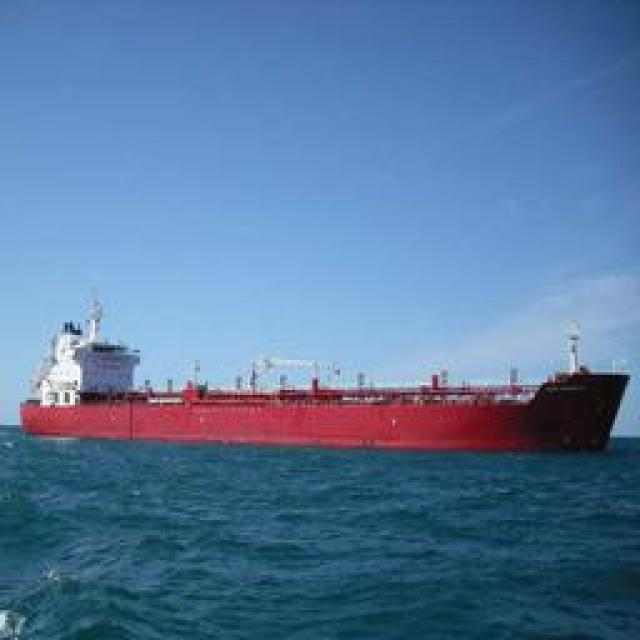CIV_Ship: (9, 291, 626, 454)
